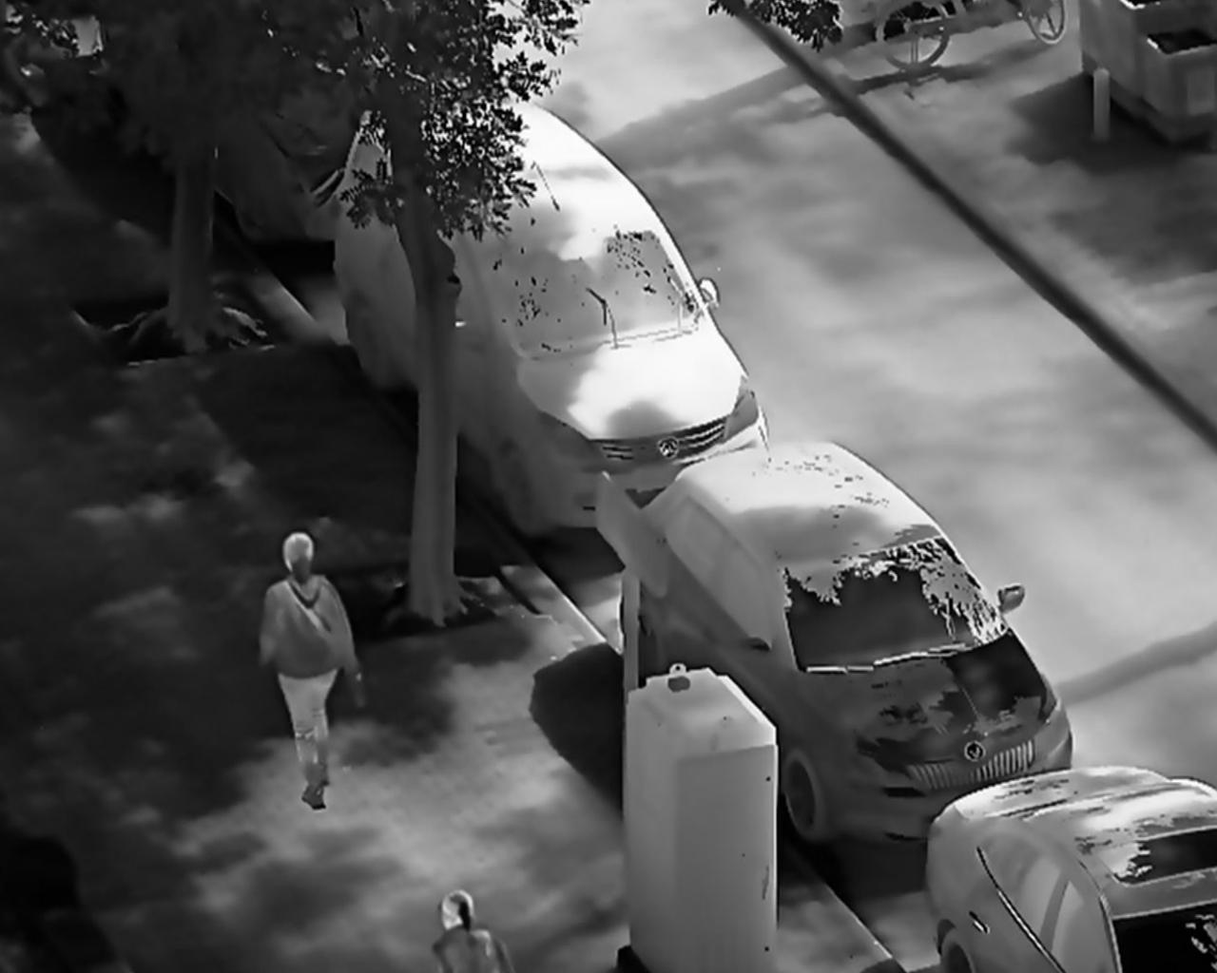person: (256, 527, 368, 813)
